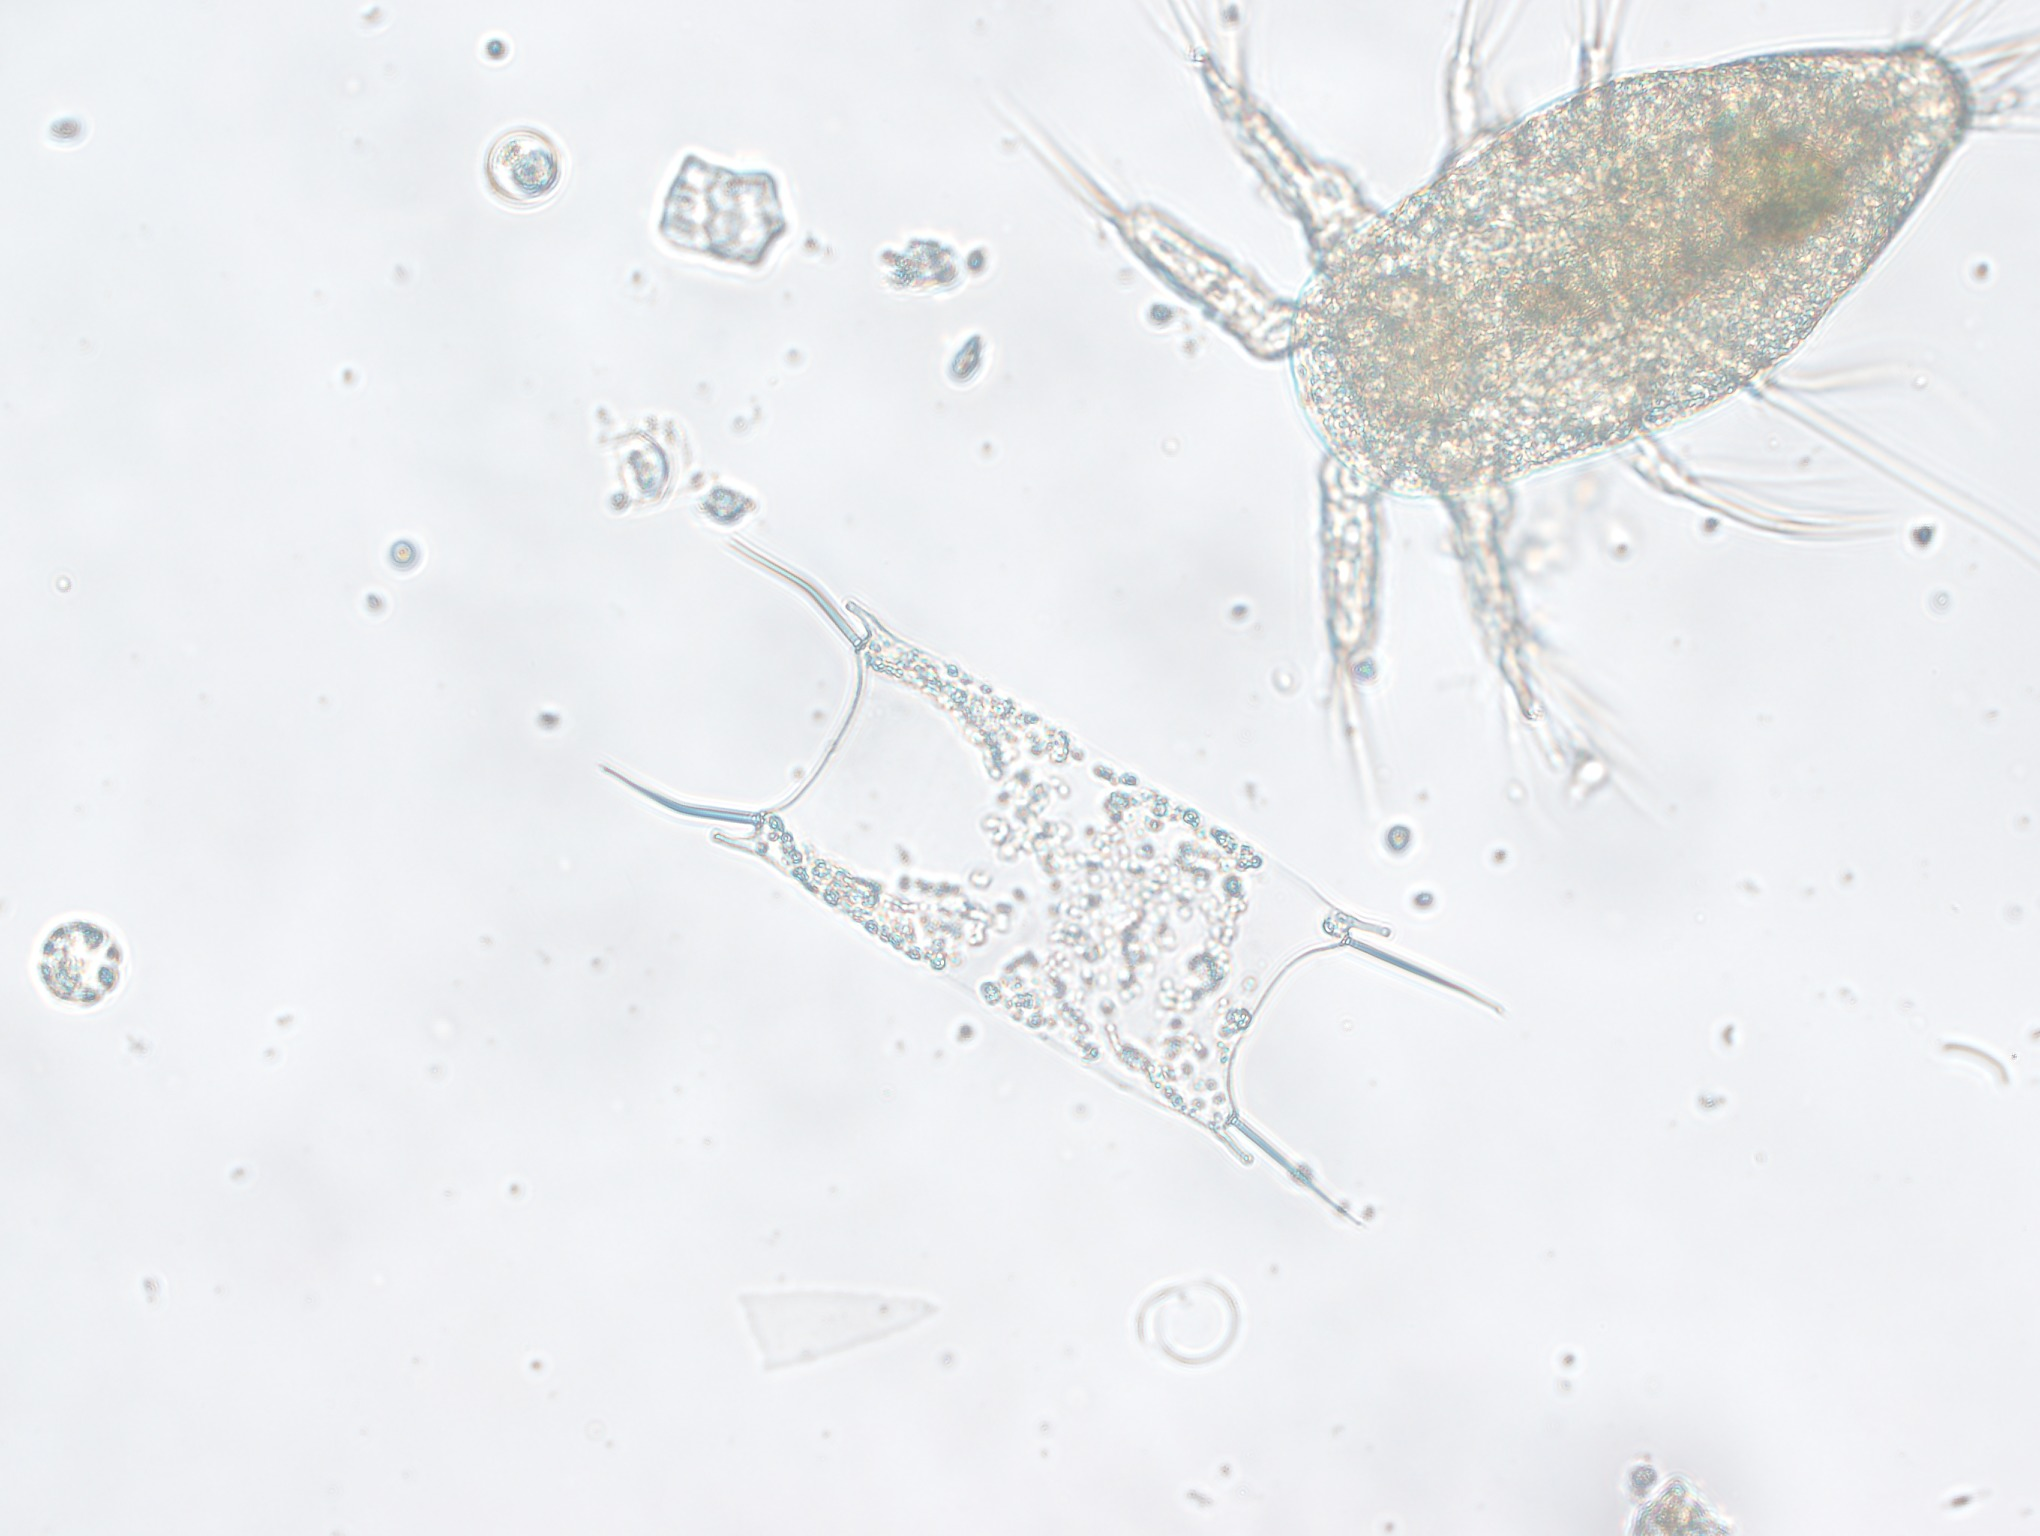biddulphia: (592, 511, 1513, 1263)
